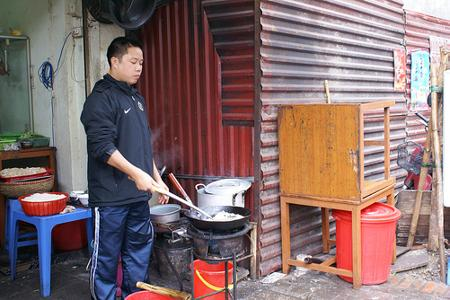person: (84, 39, 172, 300)
